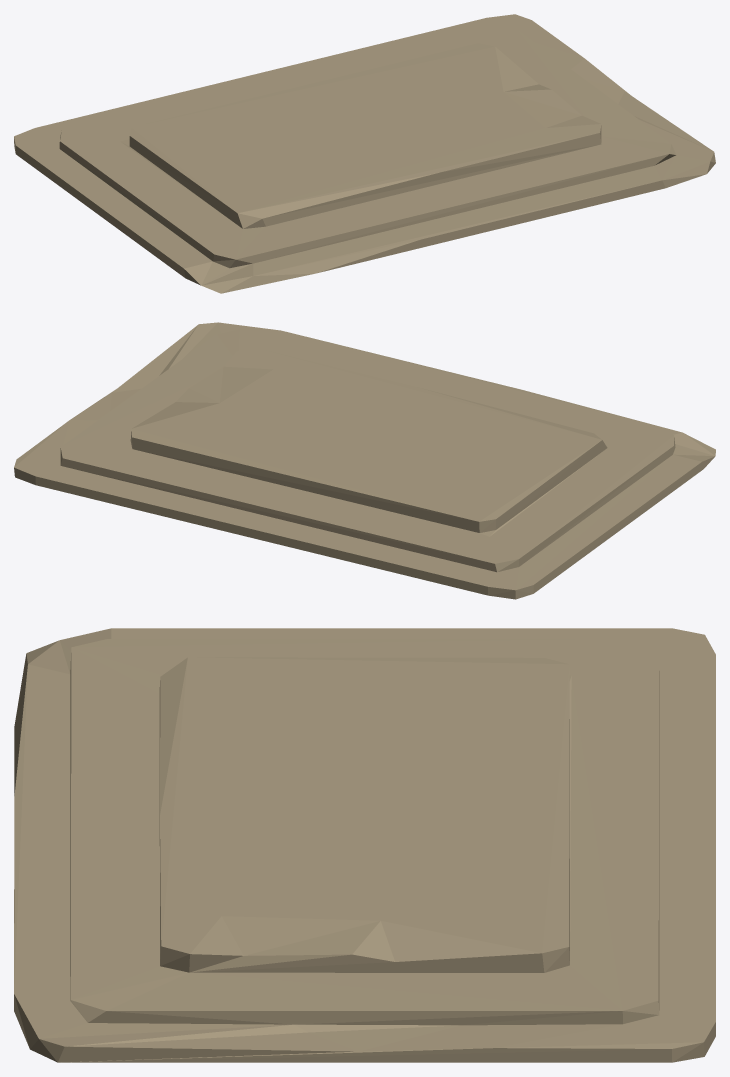
The model's file is SM_entry_stairs.fbx.
The picture shows the model from 3 angles, top to bottom: view 1: azimuth 30°, elevation 25°; view 2: azimuth 150°, elevation 25°; view 3: azimuth 270°, elevation 25°; orthographic projection. The views are drawn at different scales.
Parts seen in each view (by area): view 1: Object170; view 2: Object170; view 3: Object170.
Boxes of the visible parts, x1,y1,x2,y2 form: Object170: (14, 14, 715, 293); Object170: (14, 322, 715, 599); Object170: (14, 628, 715, 1062).
Bounding box in the file's own units: 134 × 94.94 × 7.29.
